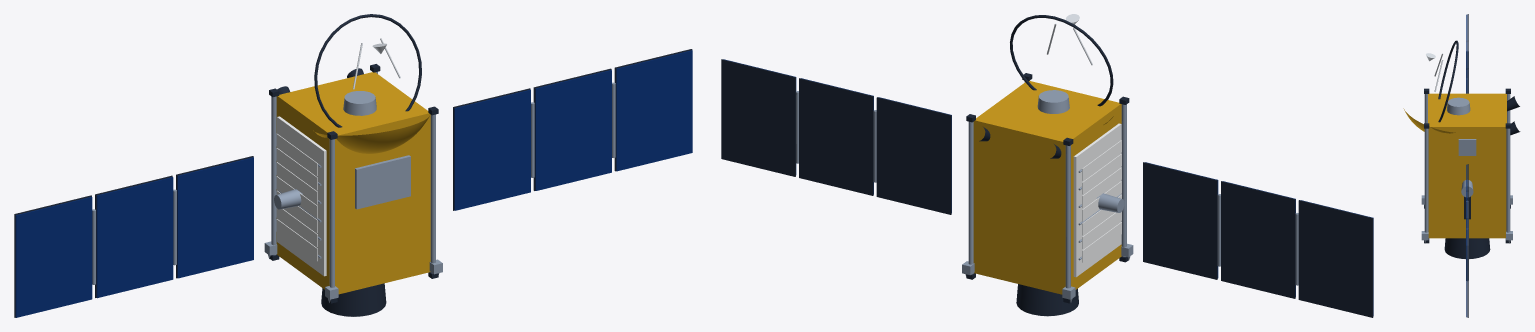
Rendered from satellite.glb.
The picture shows the model from 3 angles, left to right: view 1: azimuth 30°, elevation 25°; view 2: azimuth 150°, elevation 25°; view 3: azimuth 270°, elevation 25°; orthographic projection. The views are drawn at different scales.
Visible parts, largest first — view 1: BusBody_MLI, Cells_Starboard_2, Cells_Starboard_3, Cells_Port_3, Cells_Starboard_1, Cells_Port_2, Cells_Port_1, RadiatorBasePanel, AvionicsServiceHatch, TelescopeOpticalBarrel, DishReflector_GoldMesh, DishPerimeterRing (+9 smaller); view 2: BusBody_MLI, Backing_Starboard_3, Backing_Port_1, Backing_Port_2, Backing_Starboard_1, Backing_Starboard_2, Backing_Port_3, RadiatorBasePanel, TelescopeOpticalBarrel, FrameRail_1, FrameRail_2, DishPerimeterRing (+7 smaller); view 3: BusBody_MLI, TelescopeOpticalBarrel, FrameRail_2, FrameRail_4, DishPerimeterRing, AntennaGimbalBase, PatchPhasedArray_SBand, Backing_Port_3, Cells_Port_3, SADM_Gimbal_Port, DishReflector_GoldMesh, Hinge_Port_2 (+3 smaller).
Boxes of the visible parts, x1=… form: BusBody_MLI: x1=276, y1=72, x2=430, y2=294; Cells_Starboard_2: x1=96, y1=177, x2=173, y2=298; Cells_Starboard_3: x1=15, y1=196, x2=92, y2=317; Cells_Port_3: x1=616, y1=50, x2=692, y2=171; Cells_Starboard_1: x1=177, y1=157, x2=253, y2=278; Cells_Port_2: x1=535, y1=70, x2=611, y2=190; Cells_Port_1: x1=454, y1=89, x2=530, y2=210; RadiatorBasePanel: x1=277, y1=116, x2=326, y2=276; AvionicsServiceHatch: x1=355, y1=155, x2=410, y2=209; TelescopeOpticalBarrel: x1=321, y1=283, x2=386, y2=316; DishReflector_GoldMesh: x1=313, y1=116, x2=429, y2=153; DishPerimeterRing: x1=314, y1=14, x2=421, y2=127; BusBody_MLI: x1=973, y1=81, x2=1121, y2=294; Backing_Starboard_3: x1=1298, y1=200, x2=1373, y2=317; Backing_Port_1: x1=876, y1=97, x2=951, y2=214; Backing_Port_2: x1=799, y1=78, x2=873, y2=195; Backing_Starboard_1: x1=1143, y1=162, x2=1217, y2=279; Backing_Starboard_2: x1=1221, y1=181, x2=1295, y2=298; Backing_Port_3: x1=721, y1=59, x2=795, y2=176; RadiatorBasePanel: x1=1073, y1=123, x2=1121, y2=277; TelescopeOpticalBarrel: x1=1016, y1=284, x2=1078, y2=316; FrameRail_1: x1=1065, y1=145, x2=1070, y2=288; FrameRail_2: x1=968, y1=121, x2=973, y2=274; DishPerimeterRing: x1=1010, y1=15, x2=1113, y2=106; BusBody_MLI: x1=1428, y1=93, x2=1506, y2=238; TelescopeOpticalBarrel: x1=1444, y1=238, x2=1490, y2=258; FrameRail_2: x1=1506, y1=128, x2=1510, y2=232; FrameRail_4: x1=1424, y1=128, x2=1428, y2=232; DishPerimeterRing: x1=1438, y1=40, x2=1458, y2=122; AntennaGimbalBase: x1=1447, y1=97, x2=1470, y2=115; PatchPhasedArray_SBand: x1=1458, y1=139, x2=1476, y2=155; Backing_Port_3: x1=1467, y1=219, x2=1468, y2=317; Cells_Port_3: x1=1466, y1=219, x2=1467, y2=317; SADM_Gimbal_Port: x1=1461, y1=180, x2=1473, y2=197; DishReflector_GoldMesh: x1=1403, y1=108, x2=1455, y2=133; Hinge_Port_2: x1=1466, y1=228, x2=1468, y2=280.
Size of the model in its own units: 12.48 by 5.19 by 2.7.
